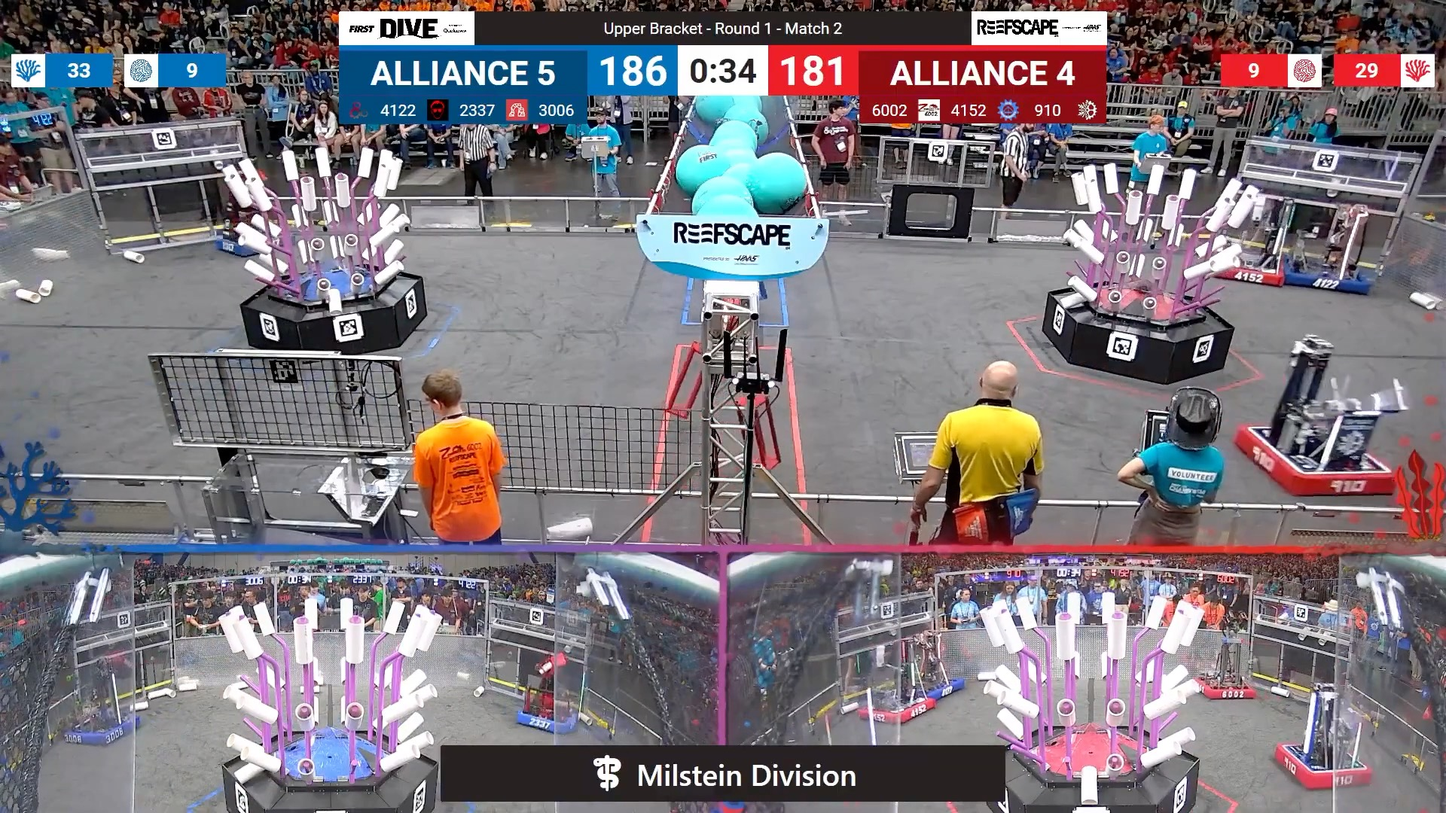bumpers: (1230, 421, 1402, 501), (1266, 742, 1379, 792), (1271, 260, 1380, 299), (60, 708, 144, 753), (855, 690, 941, 725), (508, 701, 586, 738), (218, 226, 296, 257), (1189, 672, 1262, 702)
